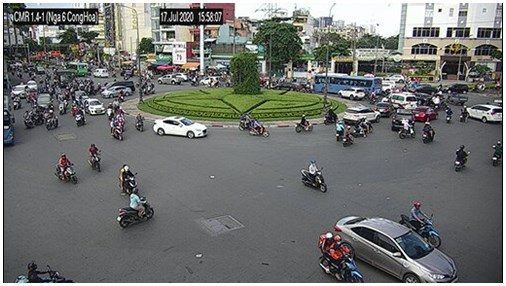xe_ban_tai: (157, 74, 183, 85)
xe_buyt: (314, 75, 383, 93), (4, 94, 16, 149)
xe_hoi: (332, 215, 458, 283), (151, 116, 207, 140), (465, 104, 503, 122), (343, 106, 379, 123), (390, 109, 415, 132), (413, 106, 437, 123), (101, 86, 133, 98), (338, 87, 365, 101), (101, 80, 135, 91), (85, 99, 105, 115), (35, 93, 51, 112), (443, 84, 469, 93), (413, 91, 432, 103), (375, 102, 392, 114), (11, 85, 28, 97), (200, 77, 220, 84), (26, 80, 37, 91)
xe_khach: (94, 67, 109, 78)
xe_may: (318, 230, 363, 282), (400, 201, 441, 249), (116, 187, 156, 231), (301, 157, 327, 194), (52, 152, 75, 182), (119, 162, 139, 195), (246, 117, 270, 140), (453, 145, 469, 172), (294, 113, 314, 132), (90, 143, 102, 172), (237, 110, 254, 130), (108, 118, 122, 140), (421, 121, 435, 143), (492, 139, 503, 166), (361, 113, 374, 135), (325, 106, 337, 127), (133, 108, 143, 133), (354, 116, 364, 137), (444, 105, 454, 125), (46, 112, 57, 130), (76, 106, 85, 127), (343, 126, 352, 147), (58, 98, 68, 116), (116, 110, 125, 130), (31, 108, 41, 125), (143, 83, 156, 95), (23, 111, 32, 128), (107, 102, 115, 120), (191, 73, 199, 85), (113, 98, 120, 110)
